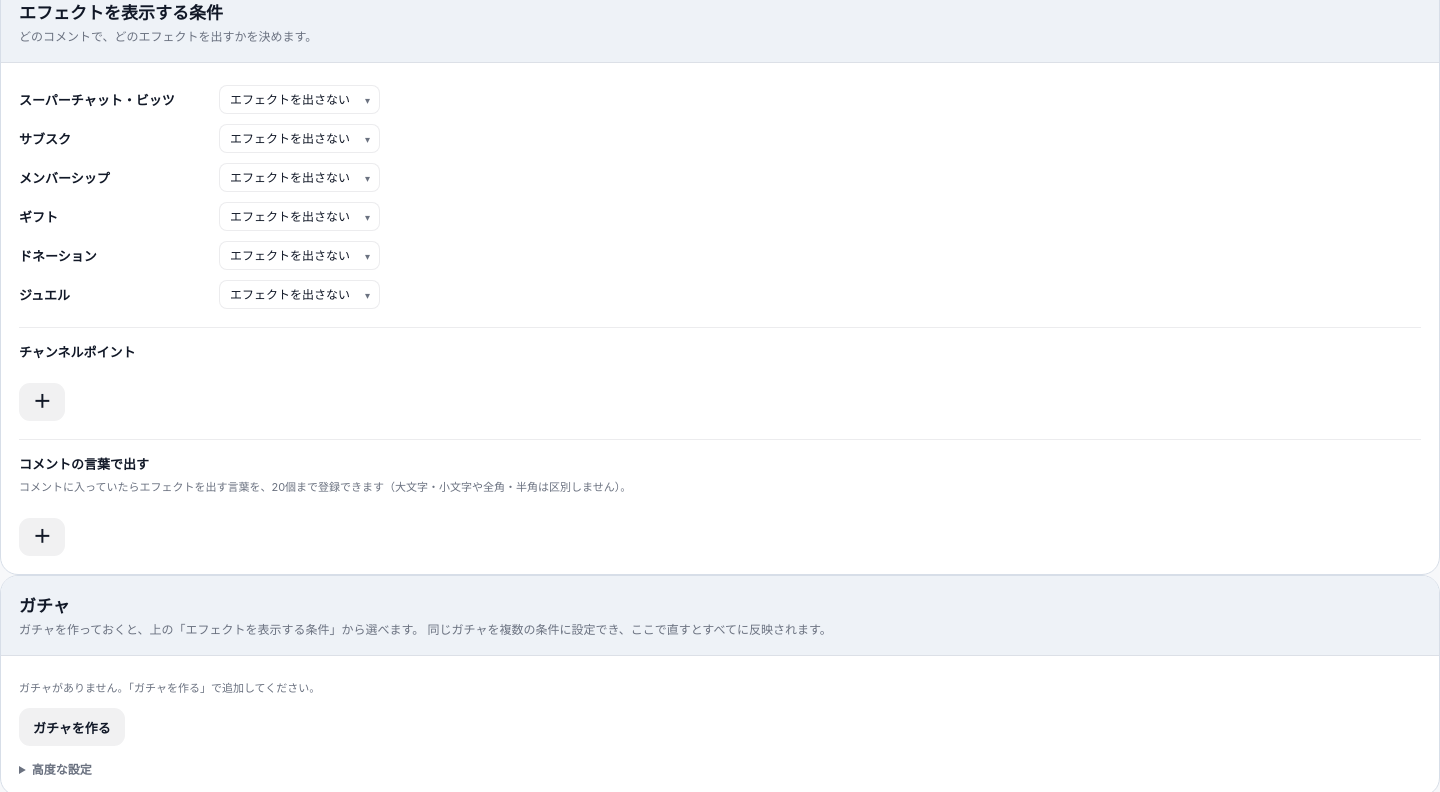
Test: GachaPrizeTable（063a） › ⚠⚠ ガチャを作ると表が開き、景品 0 件では「景品がありません」が出る
The width and height of the screenshot is (1440, 792).
Step 1. Click the button "ガチャを作る" → (72, 727), box [19, 708, 125, 746]
(page scrolled)
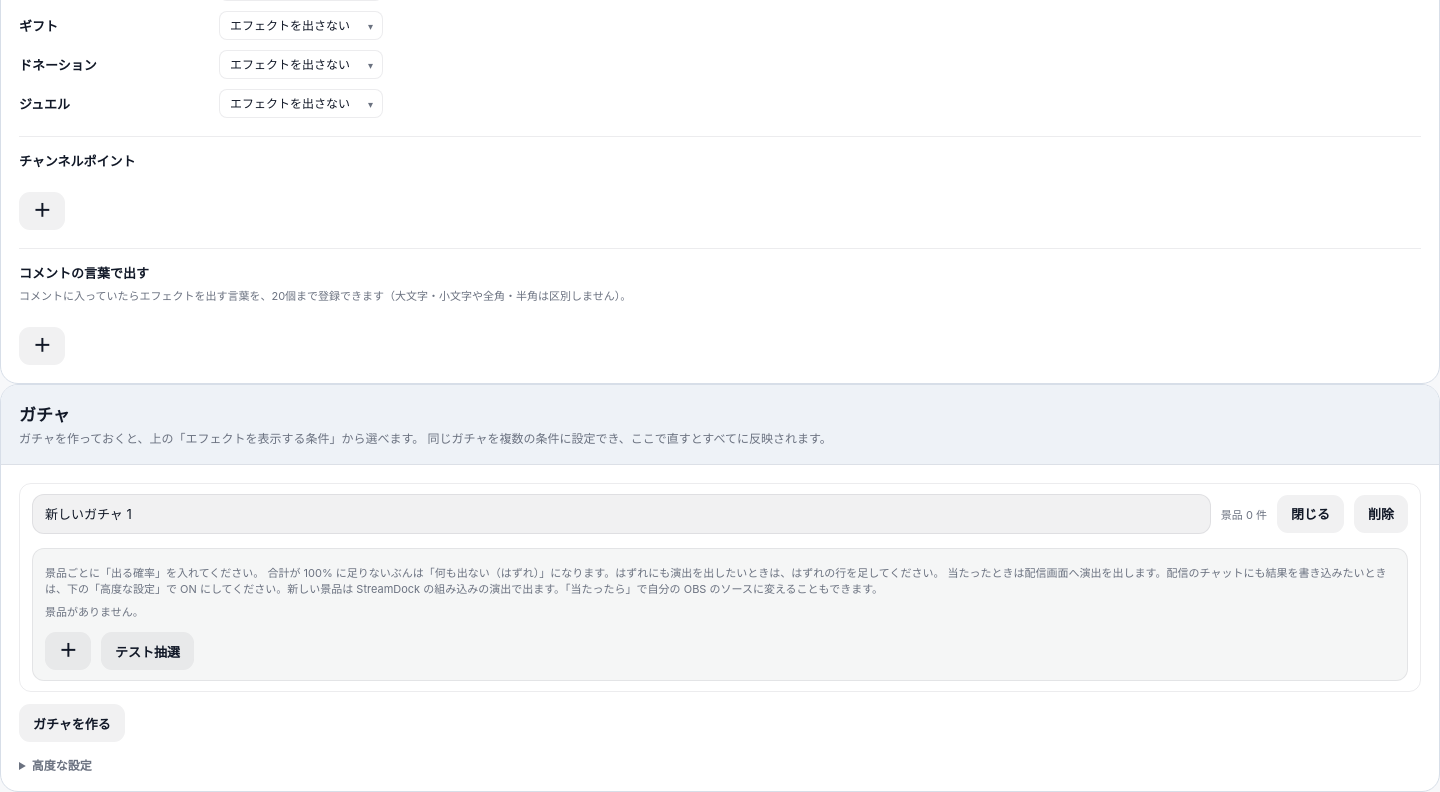
Now the text "景品がありません。" is shown, box [45, 604, 144, 618]
